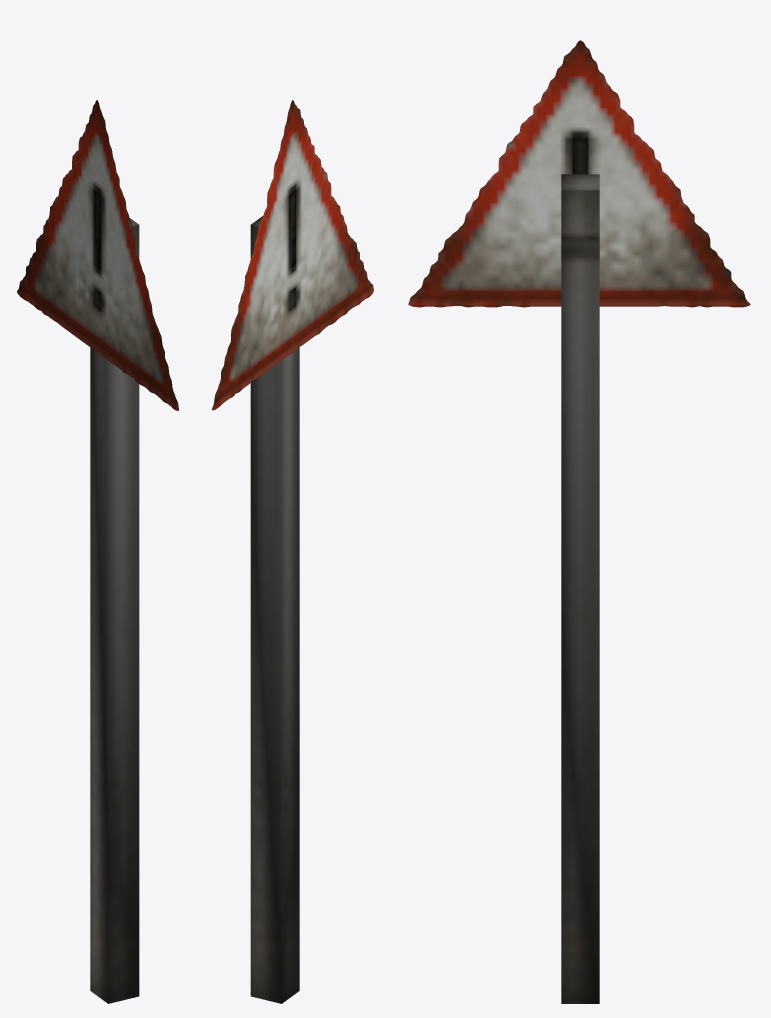
Rendered from roadsign3.fbx.
3 views of the same model, side by side, from view 1: azimuth 30°, elevation 25°; view 2: azimuth 150°, elevation 25°; view 3: azimuth 270°, elevation 25° (orthographic). The views are drawn at different scales.
Parts seen in each view (by area): view 1: roadsign3; view 2: roadsign3; view 3: roadsign3.
Part boxes in pixels (left/top/right/bottom): roadsign3: left=17, top=100, right=178, bottom=1003; roadsign3: left=212, top=100, right=373, bottom=1003; roadsign3: left=408, top=40, right=750, bottom=1003.
Size of the model in its own units: 11.4 by 100 by 305.
Materials: 1 (1 with a texture image).
